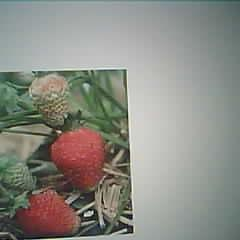straw-ripe: (50, 128, 104, 189), (16, 190, 79, 235)
